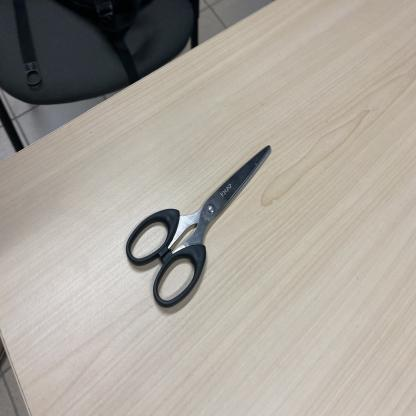scissors: (126, 143, 272, 310)
